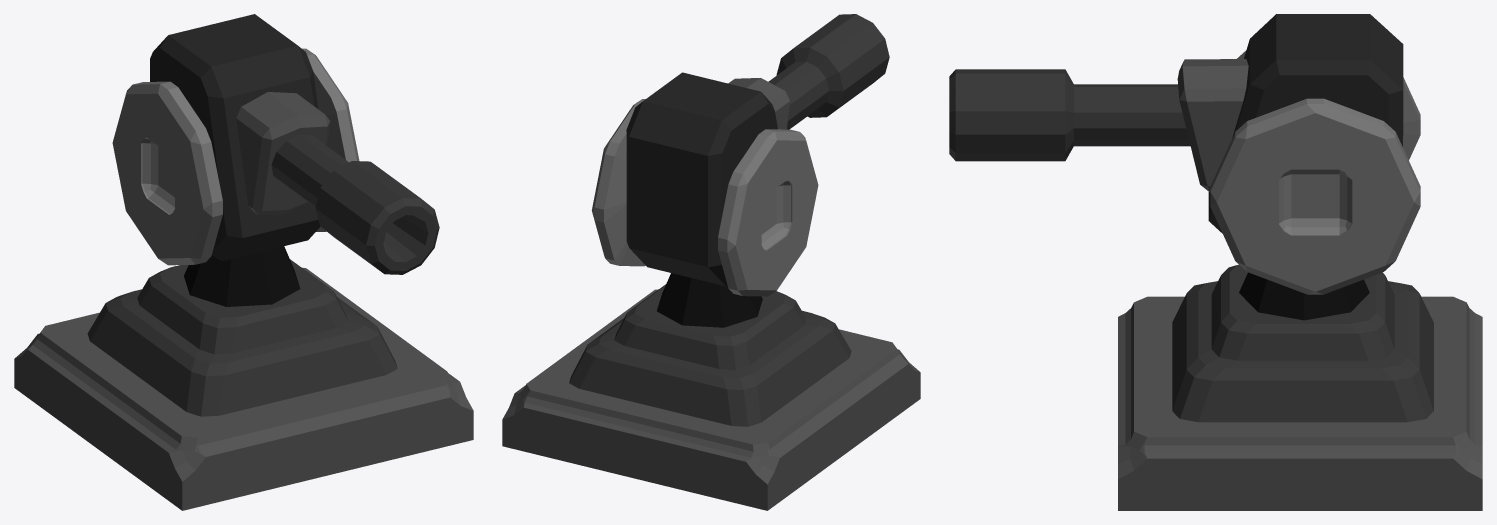
File: Cannon Tower.fbx
3 views of the same model, side by side, from view 1: azimuth 30°, elevation 25°; view 2: azimuth 150°, elevation 25°; view 3: azimuth 270°, elevation 25° (orthographic). The views are drawn at different scales.
Parts seen in each view (by area): view 1: Platform, Head, Cannon; view 2: Platform, Head, Cannon; view 3: Platform, Head, Cannon.
Boxes of the visible parts, left/top/right/bottom form: Platform: left=14, top=259, right=473, bottom=510; Head: left=112, top=14, right=359, bottom=306; Cannon: left=271, top=134, right=439, bottom=274; Platform: left=502, top=284, right=920, bottom=510; Head: left=591, top=72, right=818, bottom=327; Cannon: left=768, top=14, right=889, bottom=129; Platform: left=1118, top=264, right=1482, bottom=510; Head: left=1177, top=14, right=1420, bottom=320; Cannon: left=949, top=69, right=1190, bottom=161.
Bounding box in the file's own units: 100 × 120 × 146.
